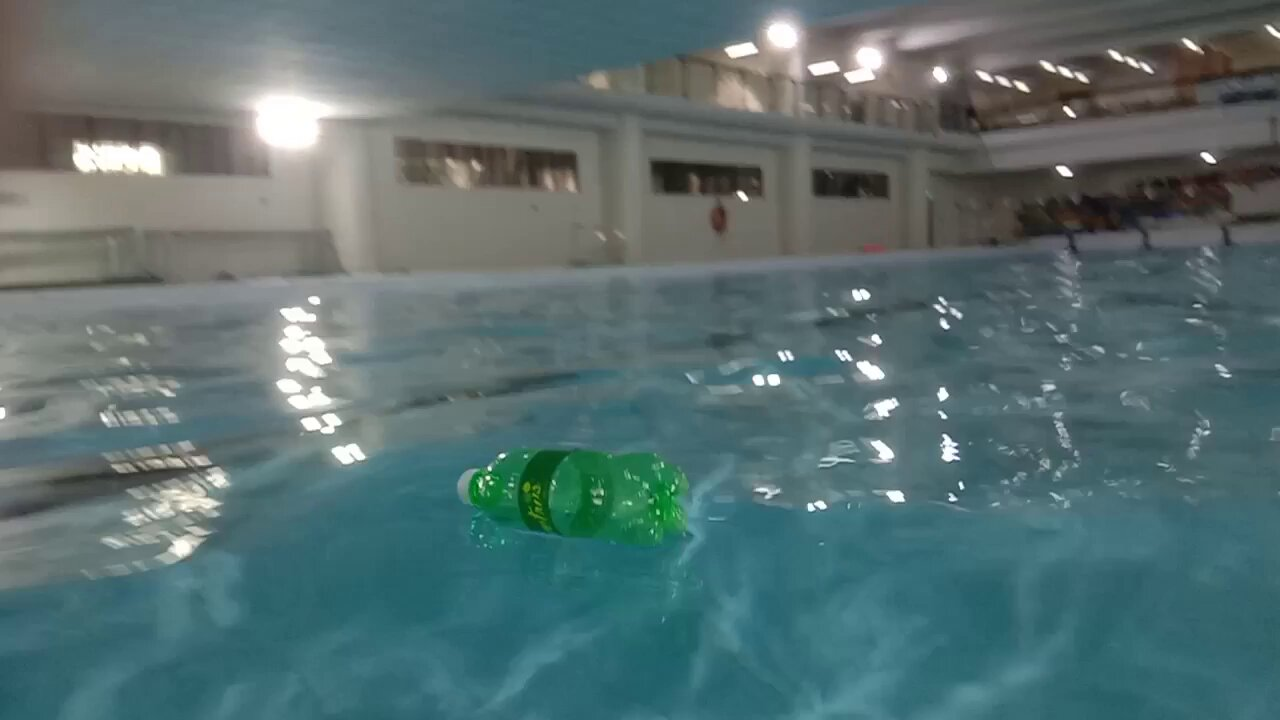plastic_bottle: (457, 451, 688, 546)
